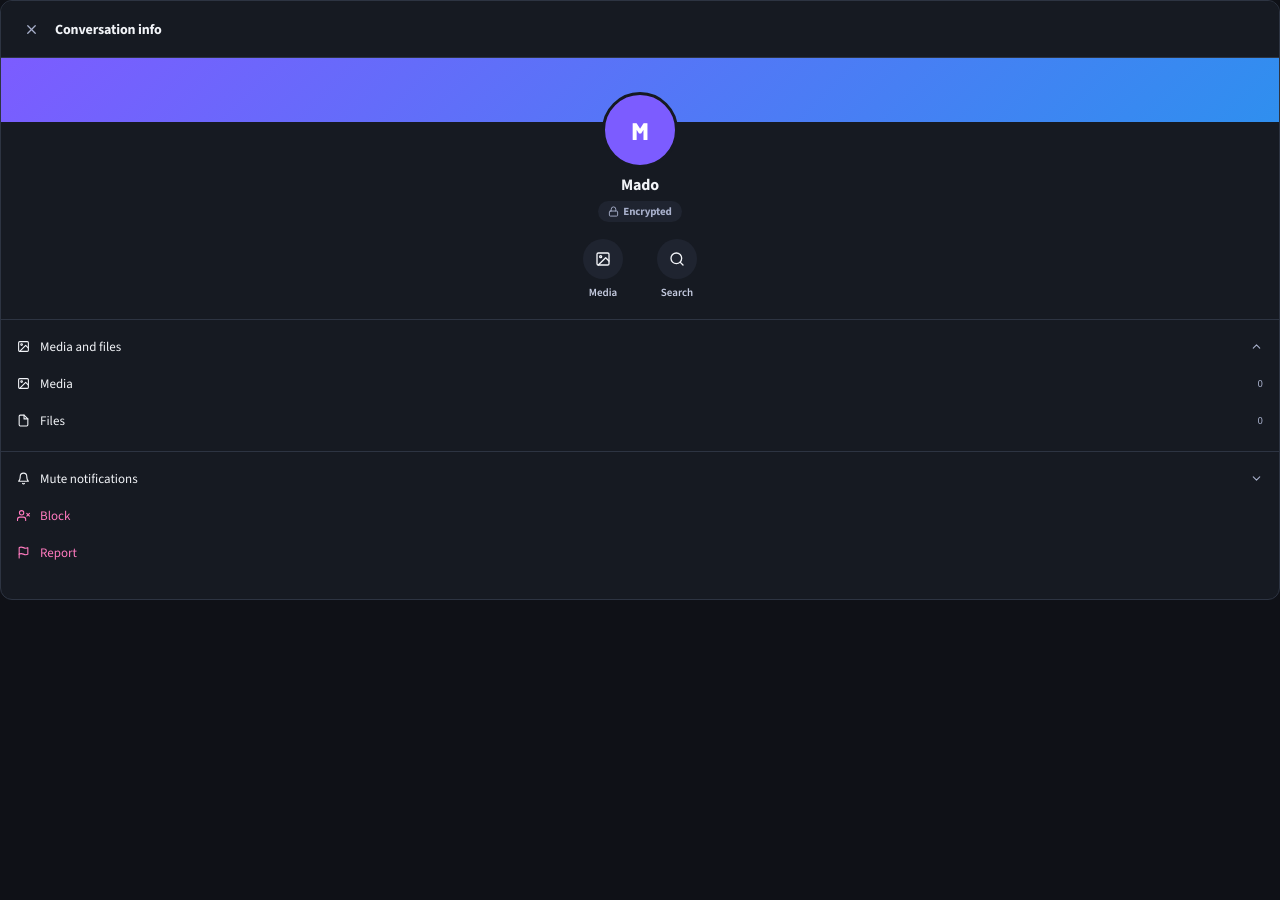
ConversationInfoPanel blocking › asks first instead of blocking straight away
Click the button "Block". click: (55, 516)
box: [9, 497, 1271, 534]
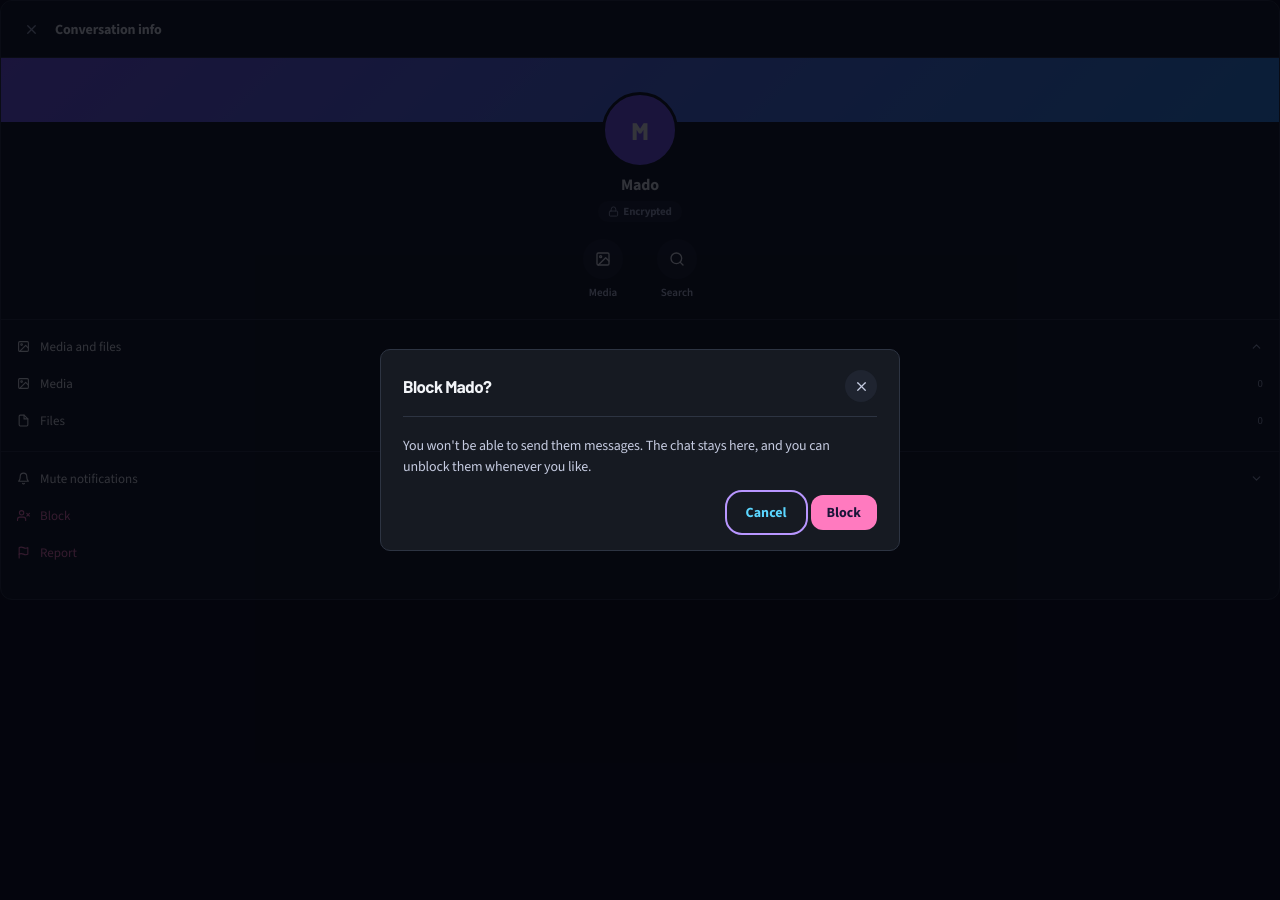
Now the dialog "Block Mado?" is shown, box [380, 349, 900, 551]
